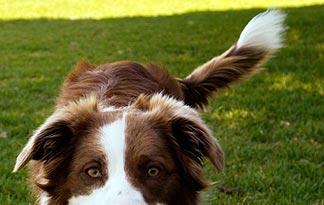tail: (180, 6, 290, 107)
